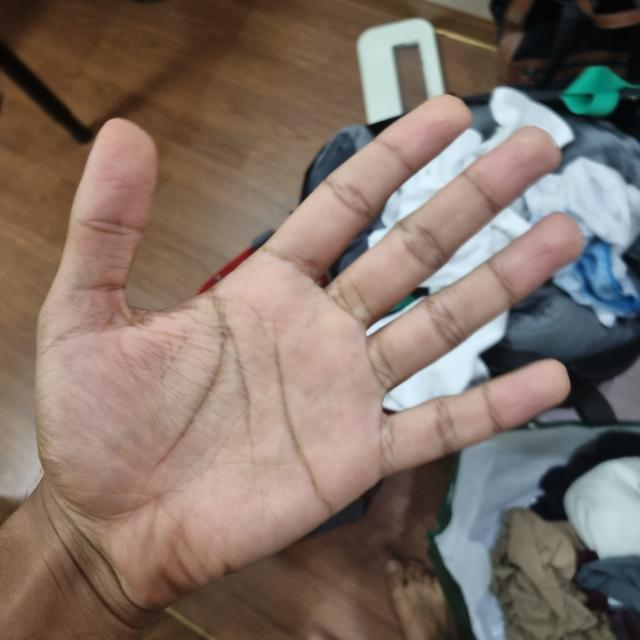Paper: (97, 97, 582, 584)
